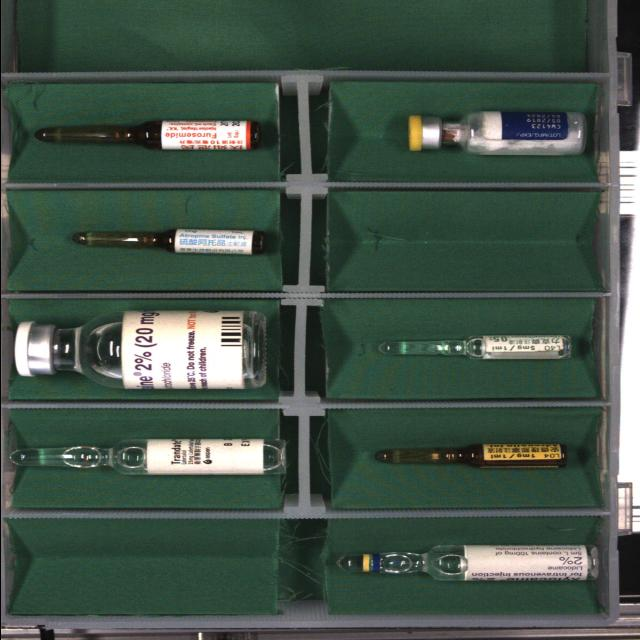Vials: (14, 311, 264, 389), (407, 112, 585, 155)
